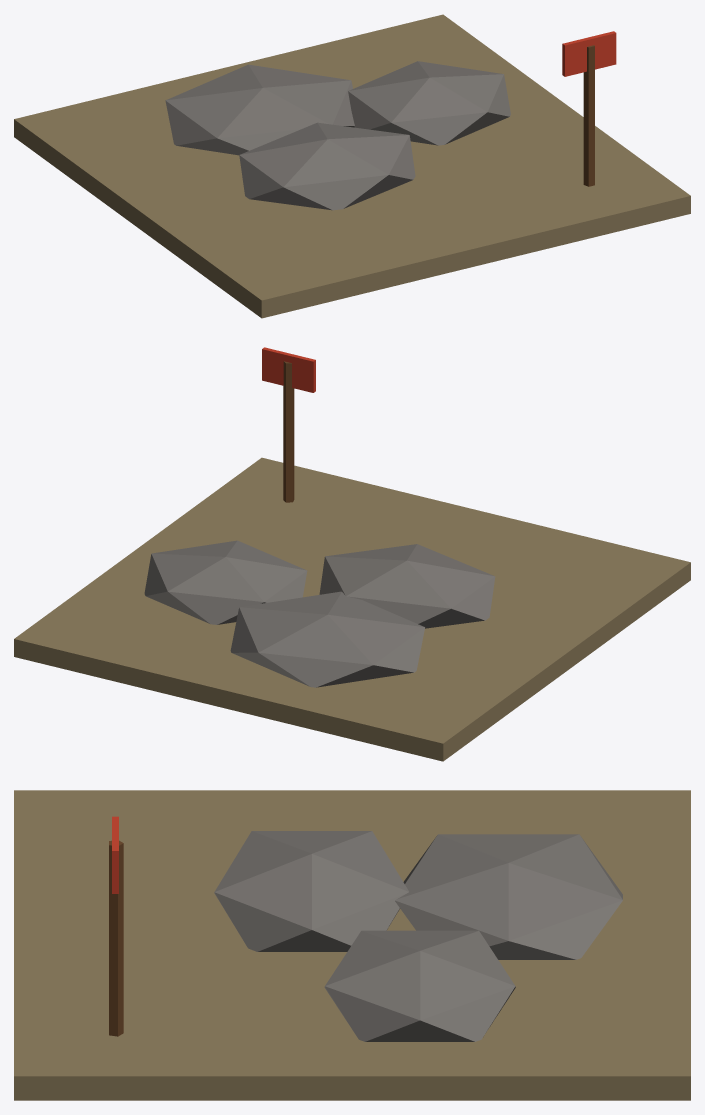
Rendered from Deposit_Iron_Depleted.fbx.
The picture shows the model from 3 angles, top to bottom: view 1: azimuth 30°, elevation 25°; view 2: azimuth 150°, elevation 25°; view 3: azimuth 270°, elevation 25°; orthographic projection. The views are drawn at different scales.
Parts seen in each view (by area): view 1: Deposit_Iron_Depleted_Body; view 2: Deposit_Iron_Depleted_Body; view 3: Deposit_Iron_Depleted_Body.
Boxes of the visible parts, x1,y1,x2,y2 form: Deposit_Iron_Depleted_Body: [14, 14, 690, 318]; Deposit_Iron_Depleted_Body: [14, 347, 690, 761]; Deposit_Iron_Depleted_Body: [14, 790, 690, 1100].
Size of the model in its own units: 1 by 0.3654 by 1.
